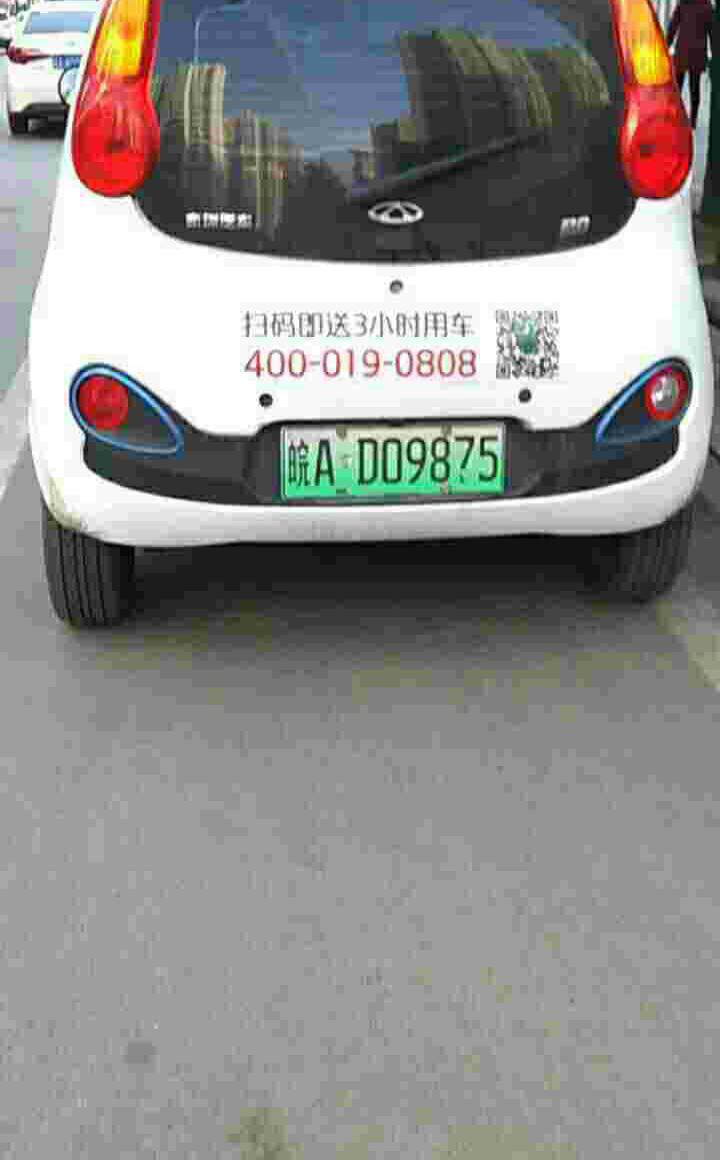car_id: (280, 421, 502, 496)
